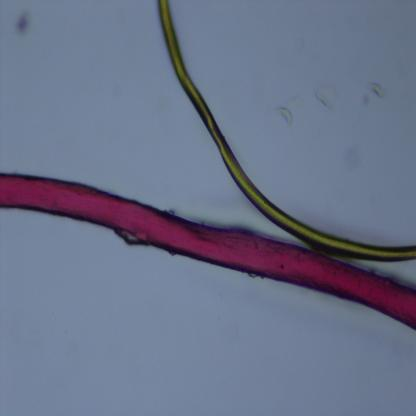Background material: (336, 144, 366, 172), (273, 99, 295, 128), (12, 7, 30, 36), (315, 84, 332, 111), (367, 78, 387, 99)
Microfibre: (157, 0, 416, 262), (0, 173, 416, 331)
